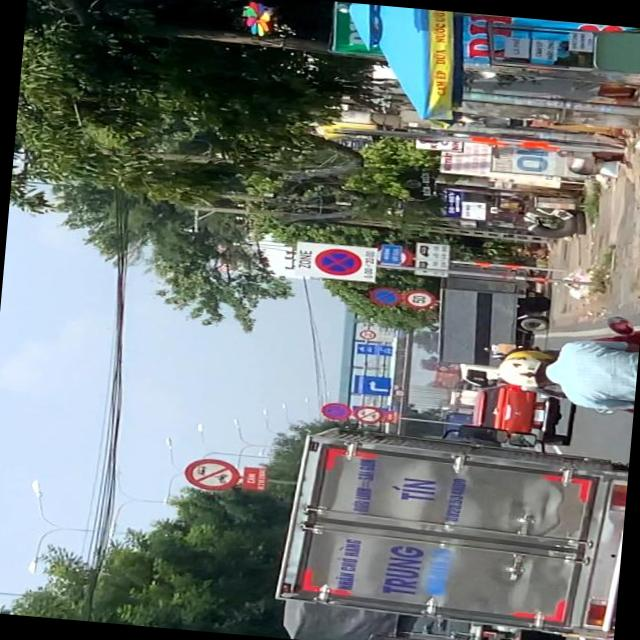P-130: (313, 244, 363, 275)
